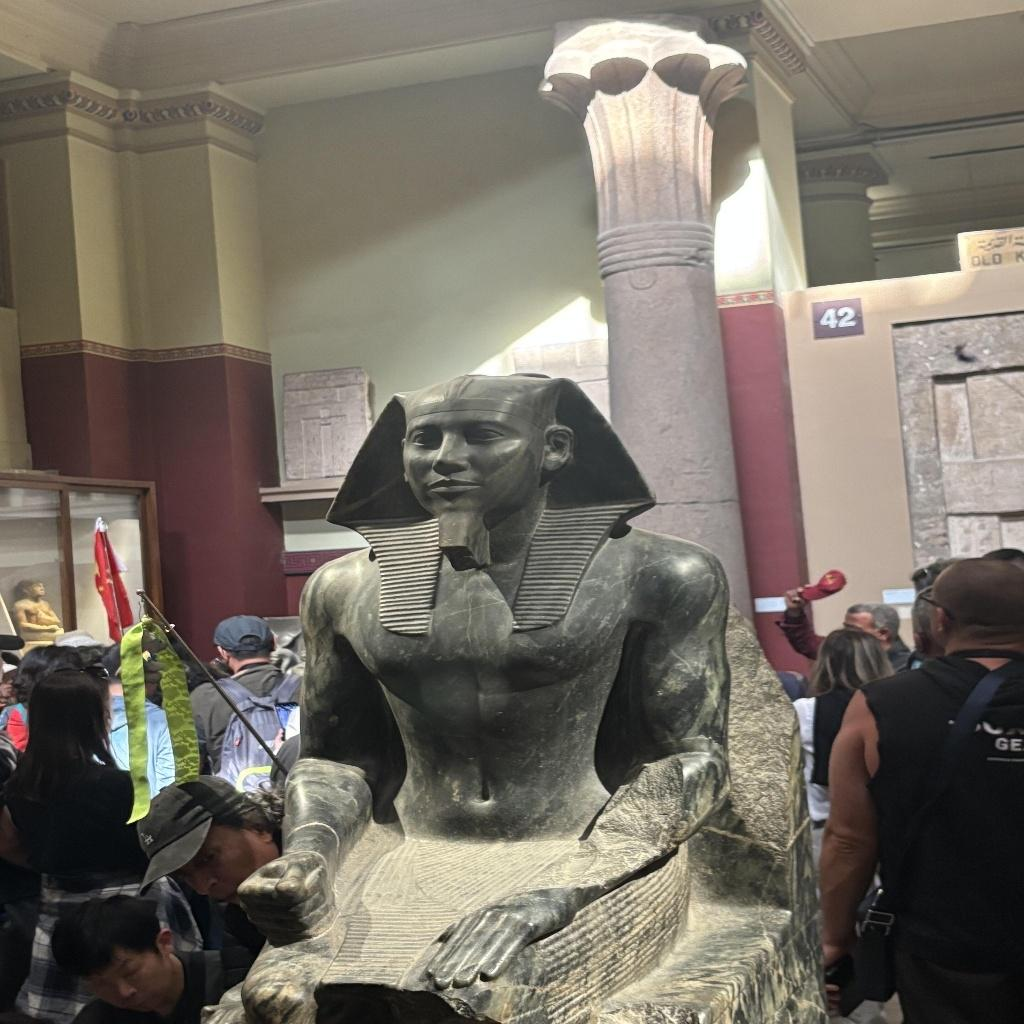Statue of Khafre: (234, 371, 732, 1015)
